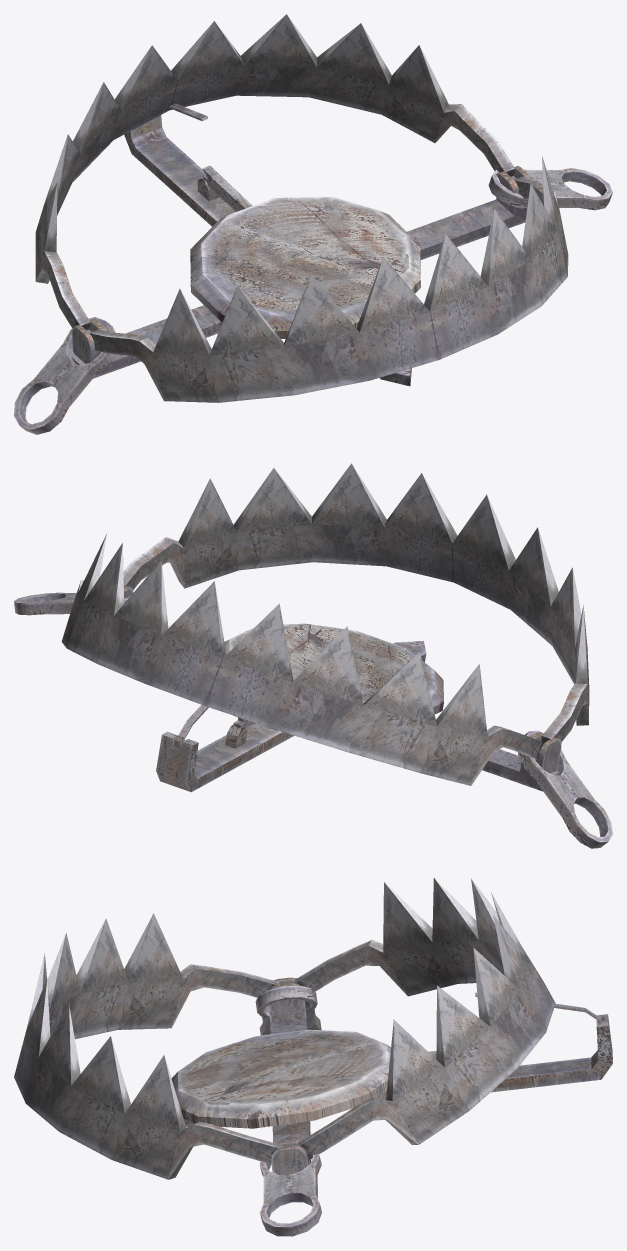
The picture shows the model from 3 angles, top to bottom: view 1: azimuth 30°, elevation 25°; view 2: azimuth 150°, elevation 25°; view 3: azimuth 270°, elevation 25°; orthographic projection.
Parts seen in each view (by area): view 1: Trap_LeftSide, Trap_RightSide, Trap_Center, Trap_Cross, Trap_1, Trap_4; view 2: Trap_RightSide, Trap_LeftSide, Trap_Cross, Trap_Center, Trap_1; view 3: Trap_LeftSide, Trap_RightSide, Trap_Center, Trap_Cross, Trap_1.
Boxes of the visible parts, box(x1,y1,x2,y2) form: Trap_LeftSide: box(89, 156, 568, 402); Trap_RightSide: box(35, 14, 514, 329); Trap_Center: box(190, 197, 420, 338); Trap_Cross: box(71, 115, 530, 386); Trap_1: box(14, 168, 612, 434); Trap_4: box(202, 165, 252, 211); Trap_RightSide: box(61, 534, 543, 785); Trap_LeftSide: box(123, 463, 589, 743); Trap_Cross: box(123, 586, 561, 792); Trap_Center: box(224, 623, 443, 714); Trap_1: box(14, 592, 612, 848); Trap_LeftSide: box(14, 913, 282, 1179); Trap_RightSide: box(294, 878, 555, 1160); Trap_Center: box(171, 1029, 390, 1128); Trap_Cross: box(184, 977, 612, 1174); Trap_1: box(255, 985, 321, 1236).
Bounding box in the file's own units: 144 × 62.68 × 124.
1 material, 1 textured.
